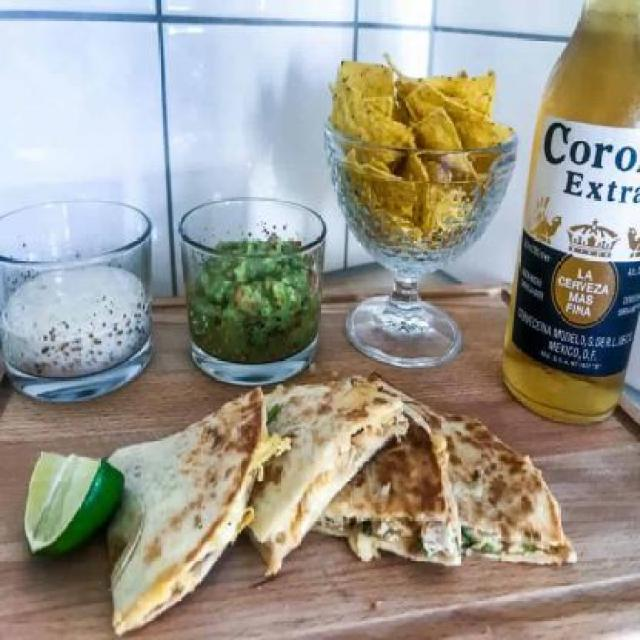chicken quesadilla: (98, 370, 580, 636)
guacamole: (181, 202, 321, 356)
nachos: (318, 38, 520, 264)
